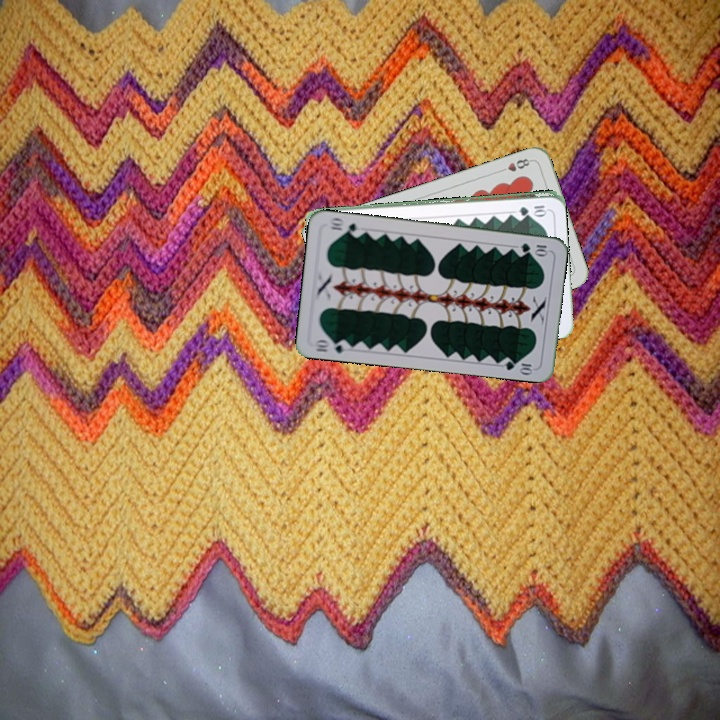G10: (310, 335, 351, 356), (517, 239, 551, 257), (515, 201, 549, 216)
H8: (495, 154, 535, 175)
